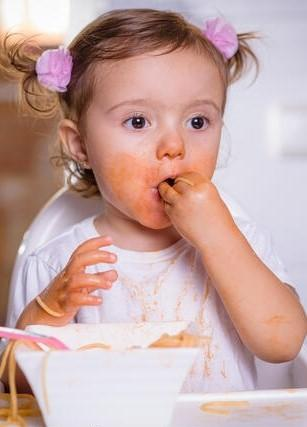Healthy: (44, 0, 264, 253)
